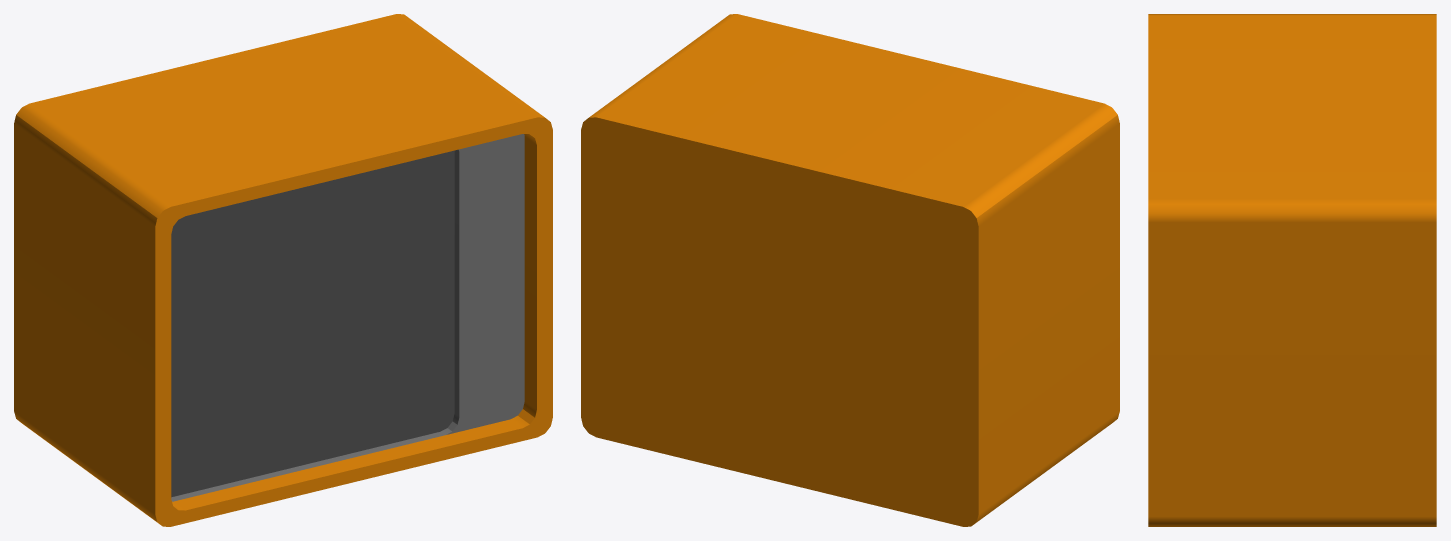
3 renders of one model, left to right at view 1: azimuth 30°, elevation 25°; view 2: azimuth 150°, elevation 25°; view 3: azimuth 270°, elevation 25°, orthographic. The views are drawn at different scales.
Parts seen in each view (by area): view 1: Base_template7; view 2: Base_template7; view 3: Base_template7.
Boxes of the visible parts, x1,y1,x2,y2 form: Base_template7: (14,14,552,526); Base_template7: (581,14,1119,526); Base_template7: (1148,14,1436,526).
Bounding box in the file's own units: 1.3 × 1 × 0.8.
